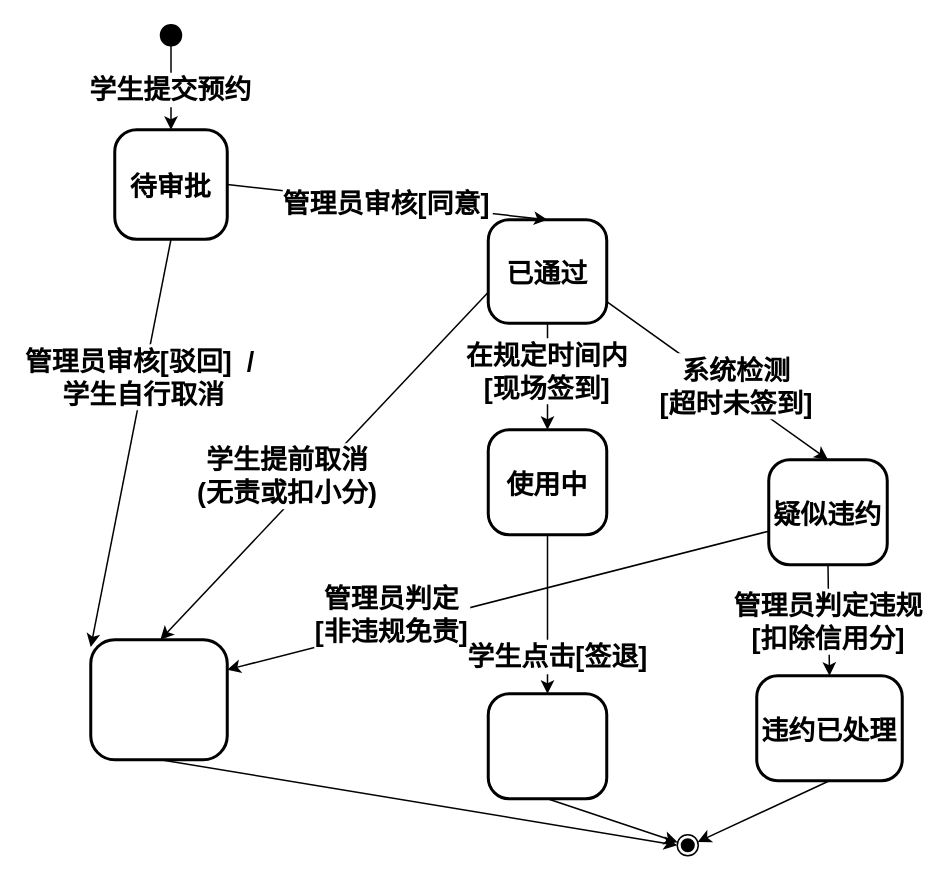
The diagram is 950 pixels wide and 881 high, and some of its shapes have lost their labels. Here are the shapes that lost their labels. From the top down, the box of each, then its label:
(88, 638, 228, 760): 已取消
(486, 692, 608, 800): 已完成
